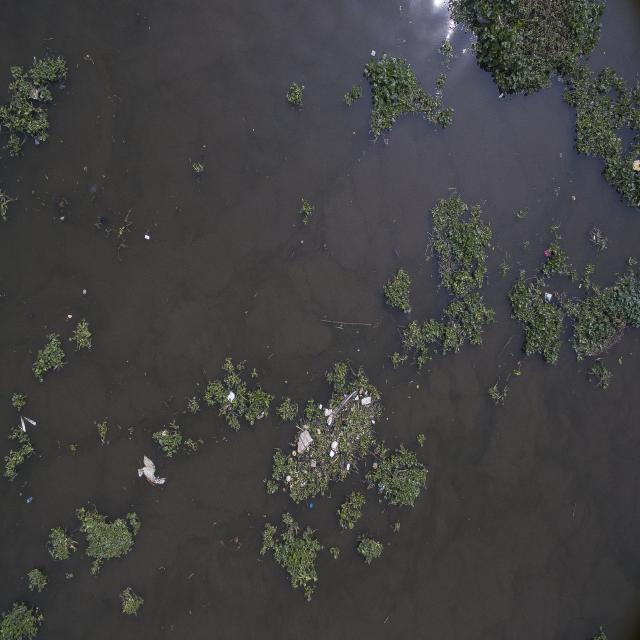plastic: (122, 451, 174, 492), (288, 418, 318, 457), (282, 471, 314, 498), (315, 398, 339, 431), (354, 383, 376, 414), (536, 277, 556, 309), (15, 414, 43, 436), (374, 477, 394, 504), (325, 441, 344, 463), (224, 387, 242, 409)
